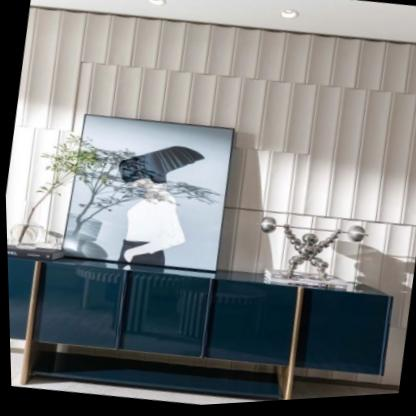Futec frame: (8, 348, 263, 407)
Wall Panel: (0, 0, 416, 313)
